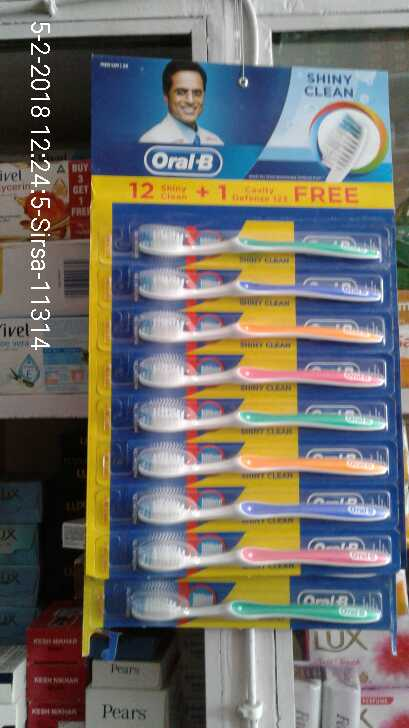oralb: (123, 518, 405, 573), (123, 214, 383, 273), (116, 579, 387, 632), (131, 429, 386, 484), (108, 395, 388, 433), (123, 489, 390, 527), (135, 309, 384, 348), (124, 270, 376, 303), (120, 357, 387, 387)
